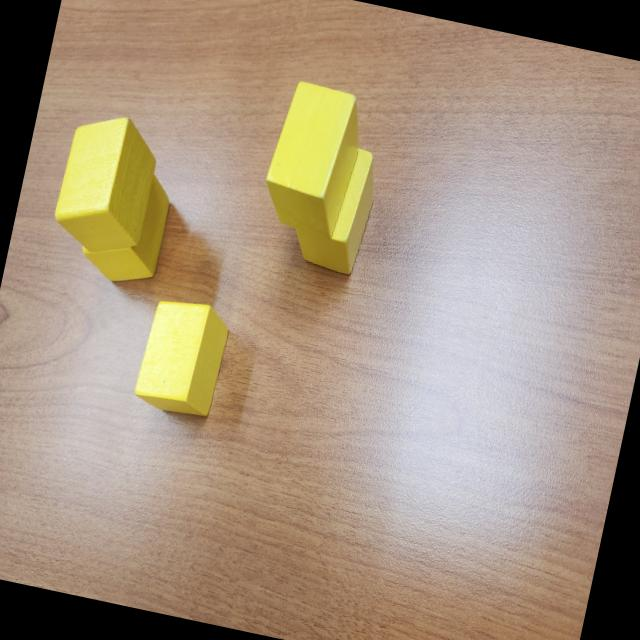yellow: (48, 105, 164, 262), (256, 79, 366, 241), (130, 293, 234, 422), (75, 162, 176, 292), (288, 140, 382, 276)
